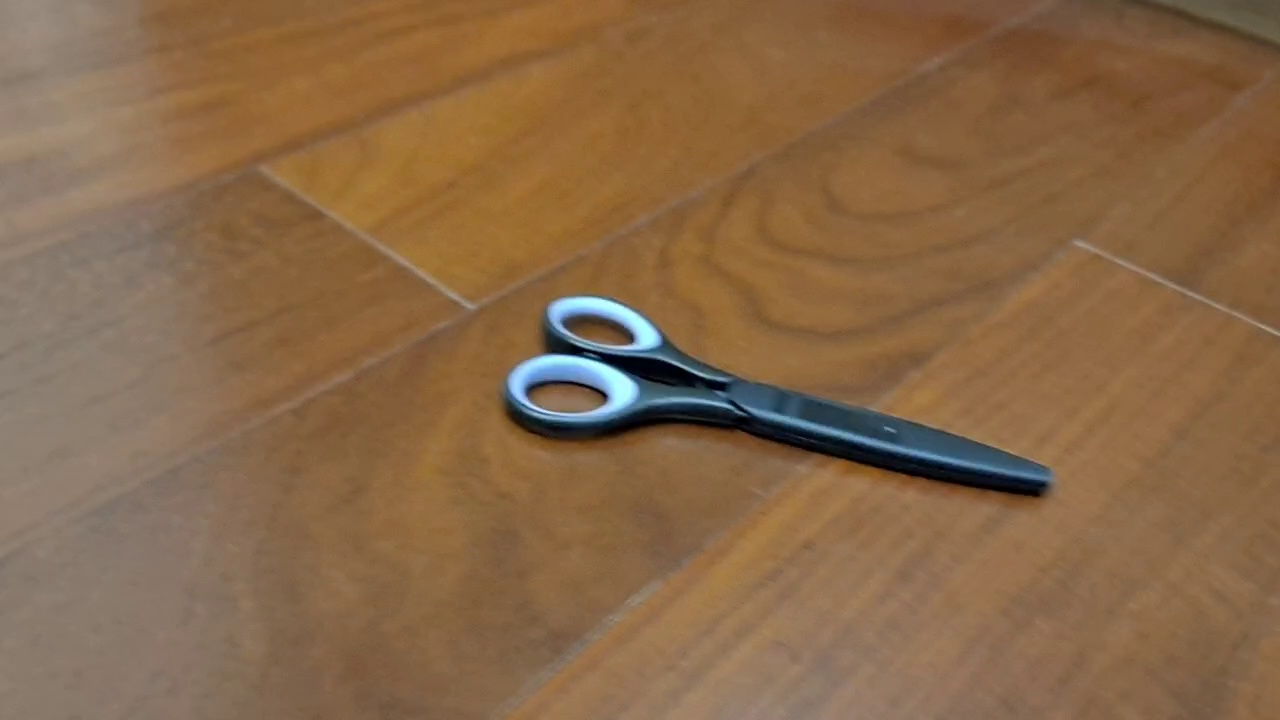scissors: (500, 292, 1056, 498)
